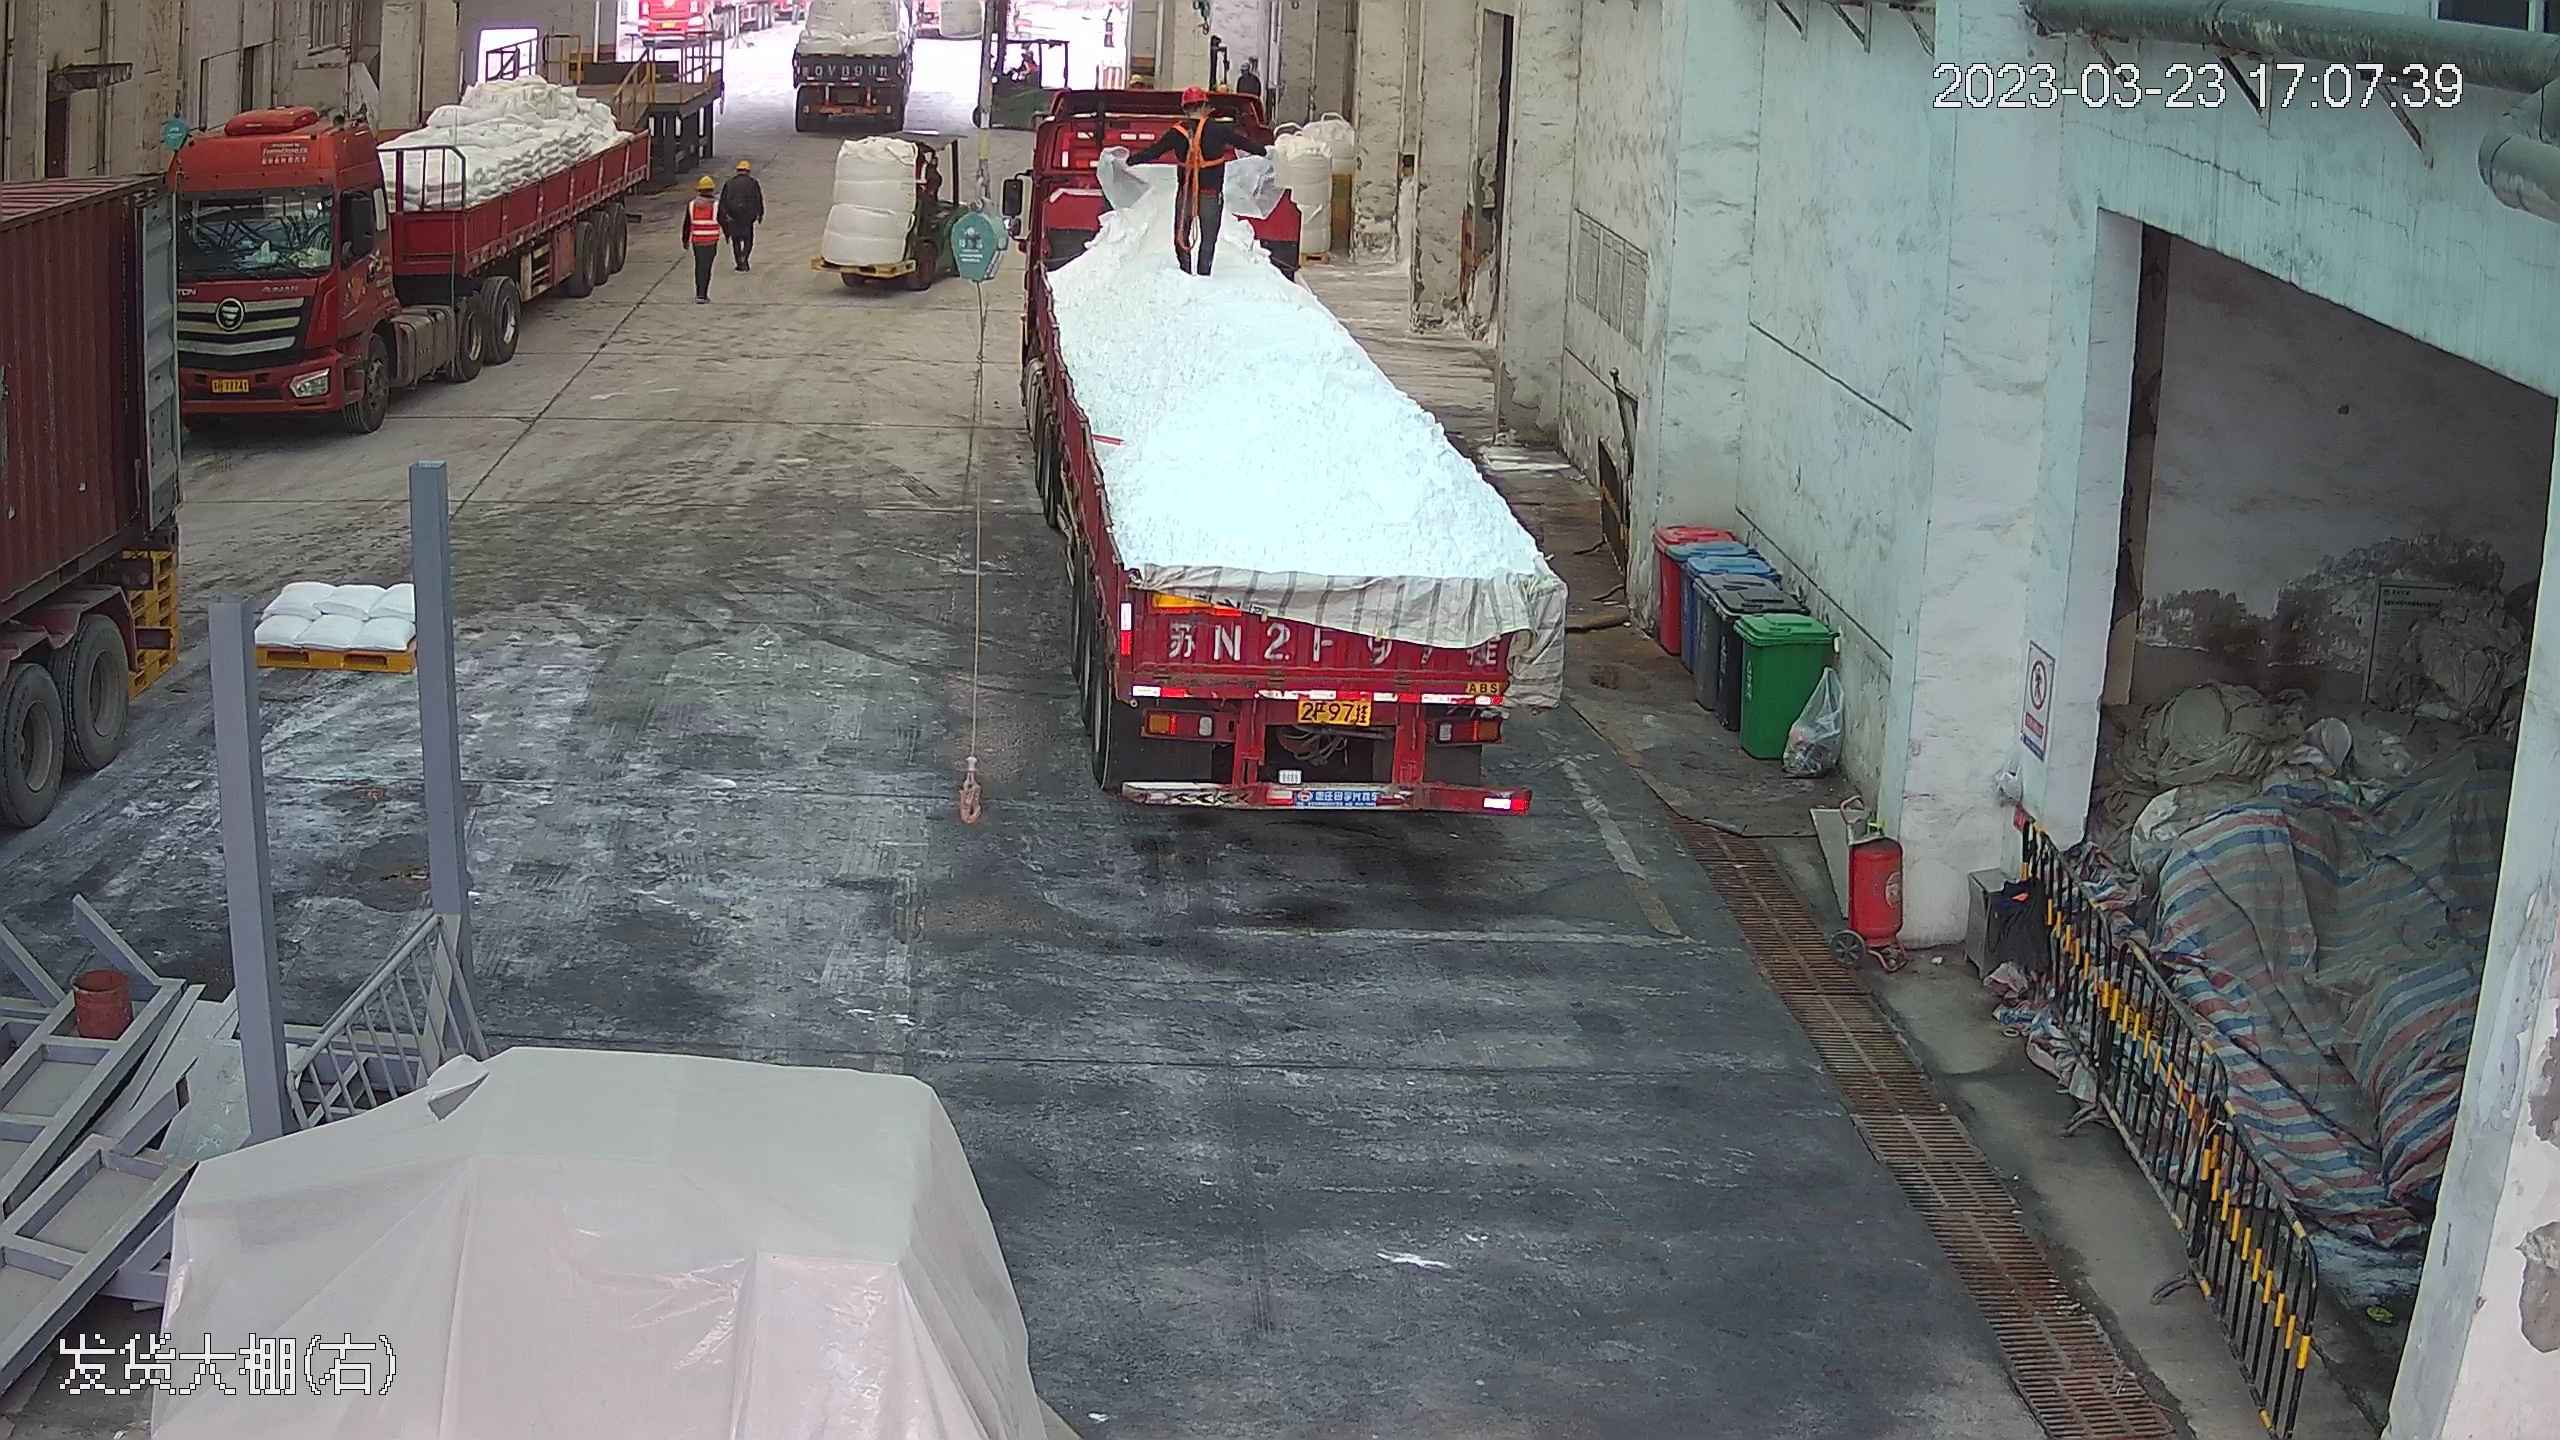belt: (1174, 113, 1217, 165)
head: (1167, 88, 1224, 142), (684, 177, 721, 218), (726, 157, 762, 195)
helmet: (1180, 86, 1210, 108), (691, 176, 714, 193), (735, 158, 753, 172)
people: (1133, 89, 1265, 284), (681, 174, 724, 306), (723, 156, 766, 280)
truck: (1008, 62, 1554, 817), (155, 19, 690, 437), (1, 108, 193, 934)
